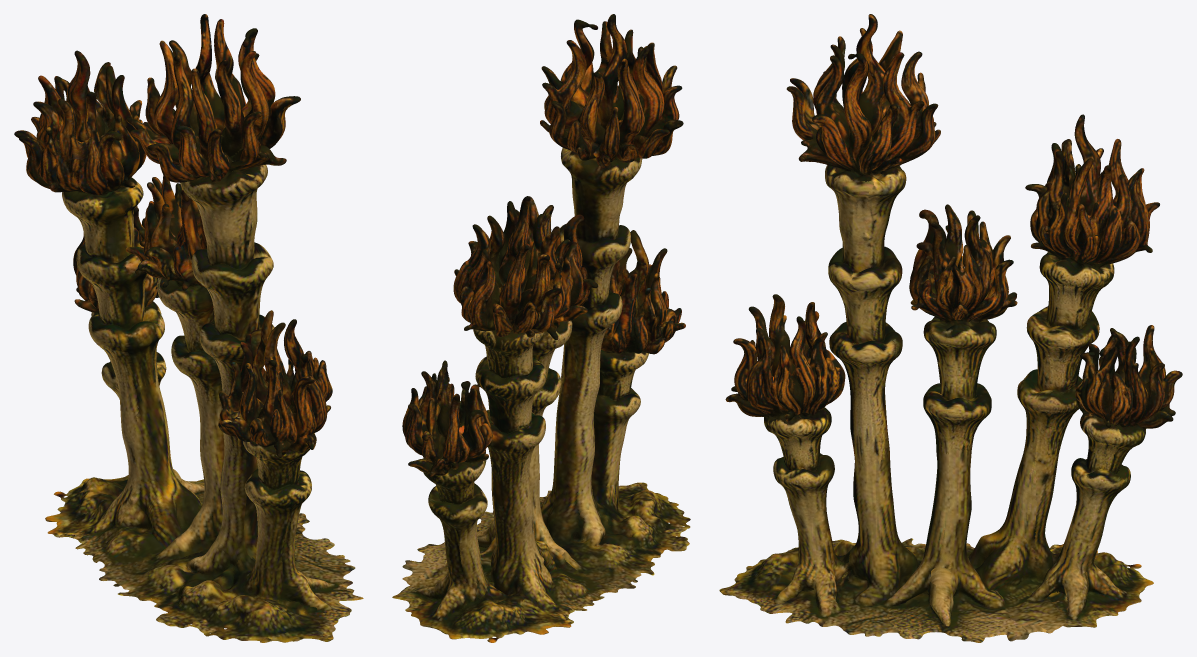
The model's file is Crown Stalks 2.glb.
The picture shows the model from 3 angles, left to right: view 1: azimuth 30°, elevation 25°; view 2: azimuth 150°, elevation 25°; view 3: azimuth 270°, elevation 25°; orthographic projection. The views are drawn at different scales.
Visible parts, largest first — view 1: tripo_node_237b2d22-48d8-4776-a81b-26397bd5fb5c; view 2: tripo_node_237b2d22-48d8-4776-a81b-26397bd5fb5c; view 3: tripo_node_237b2d22-48d8-4776-a81b-26397bd5fb5c.
Part boxes in pixels (<box>): tripo_node_237b2d22-48d8-4776-a81b-26397bd5fb5c: <box>14,14,363,642</box>; tripo_node_237b2d22-48d8-4776-a81b-26397bd5fb5c: <box>392,14,690,642</box>; tripo_node_237b2d22-48d8-4776-a81b-26397bd5fb5c: <box>719,14,1182,642</box>.
Size of the model in its own units: 0.4032 by 1 by 0.7518.
Materials: 1 (1 with a texture image).
